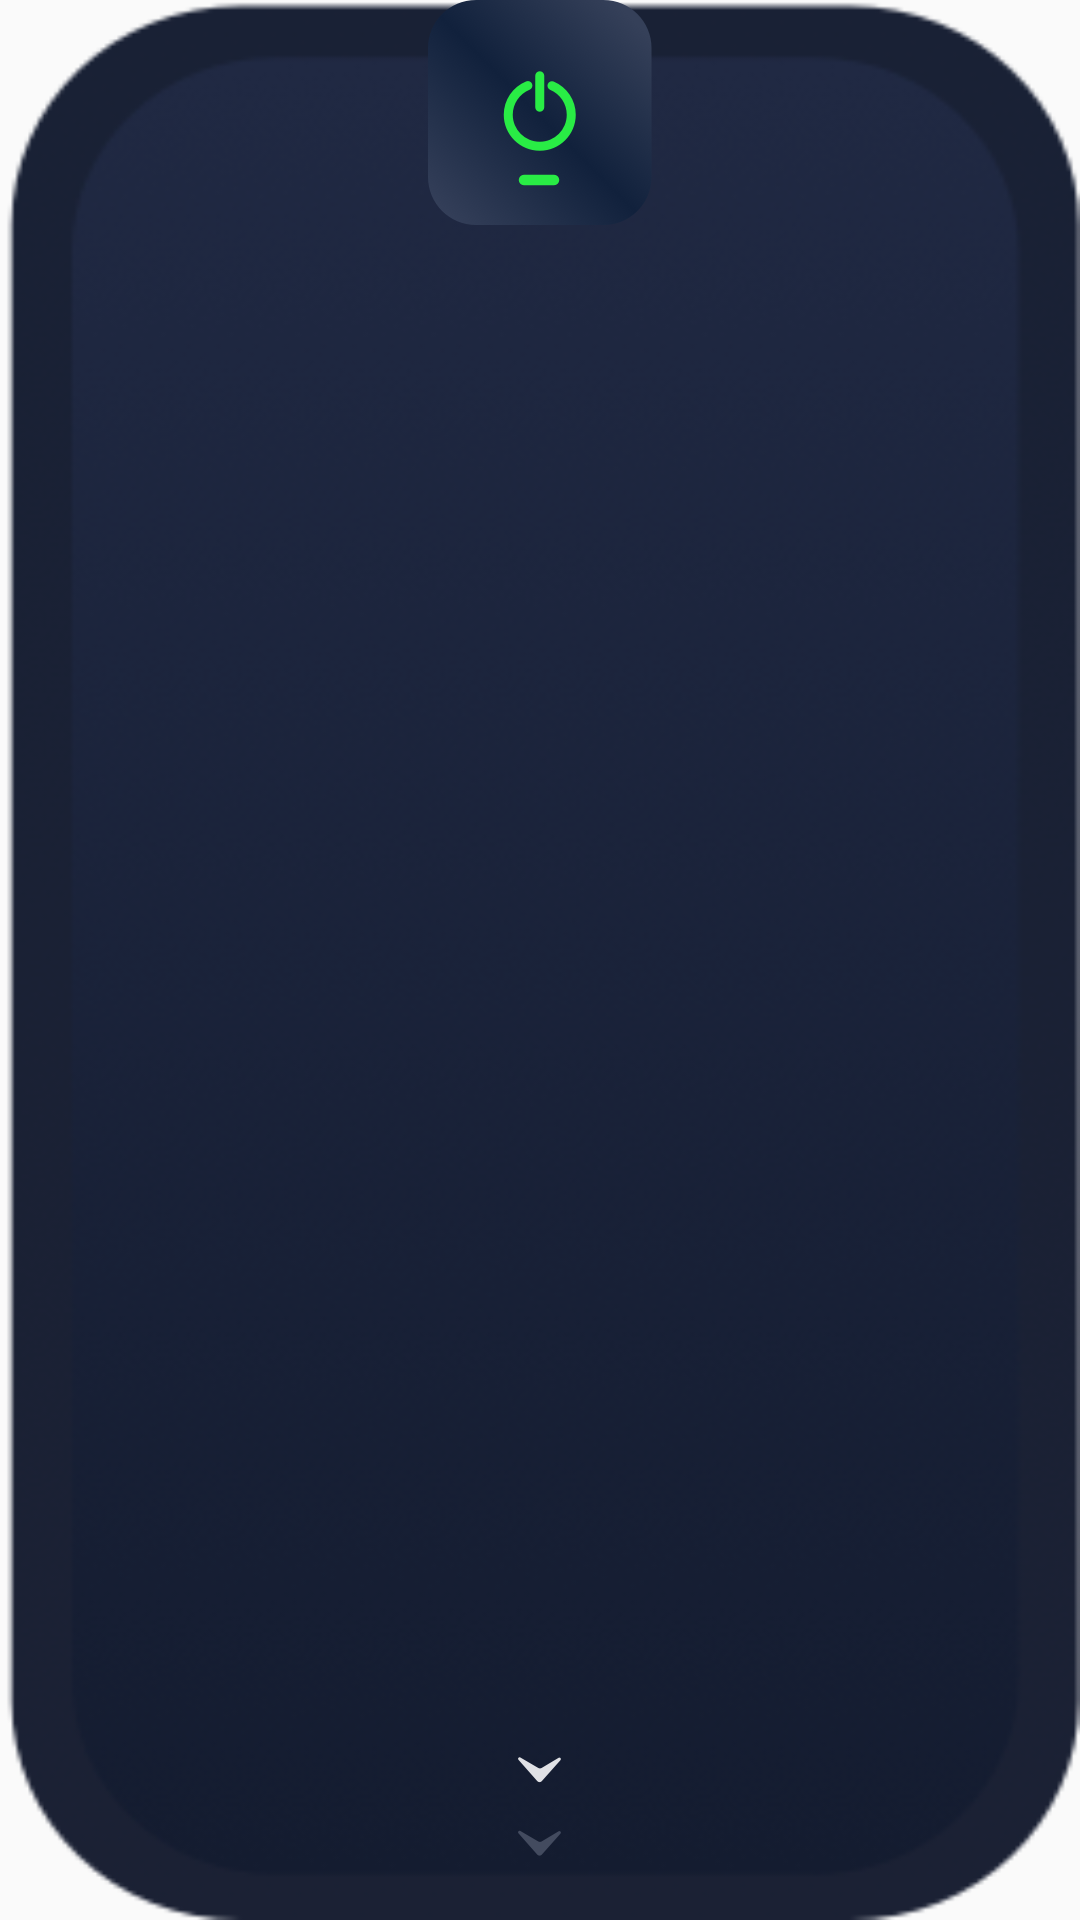

Named icons in this screenshot (1080*1920) and their bounding boxes, rect(x1, y1, x2, y2):
home connected animation: rect(518, 1757, 561, 1856)
home connected src: rect(503, 71, 576, 186)
